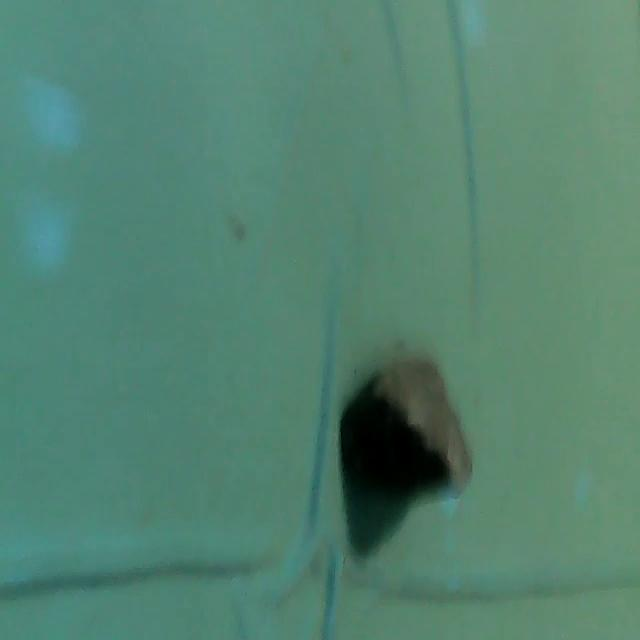rock: (337, 347, 479, 526)
